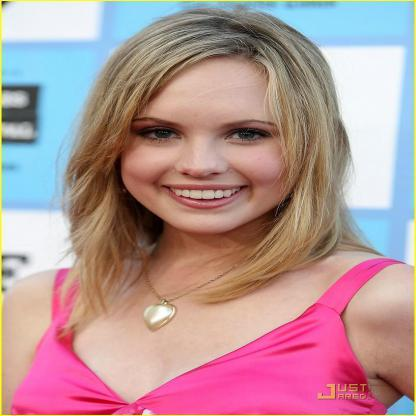long-hair: (56, 231, 350, 282)
